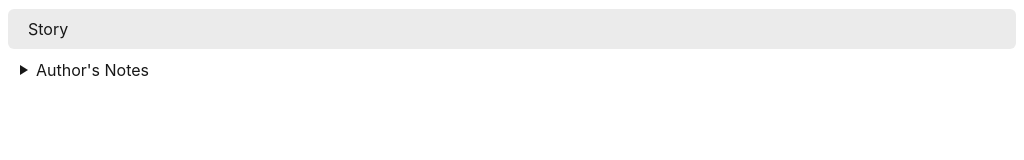
Test: opens notes from the group label and preserves expansion through progress updates
Later steps or results of the test are not shown.
Click the text "Author's Notes" at (93, 70), box [36,58,149,82]
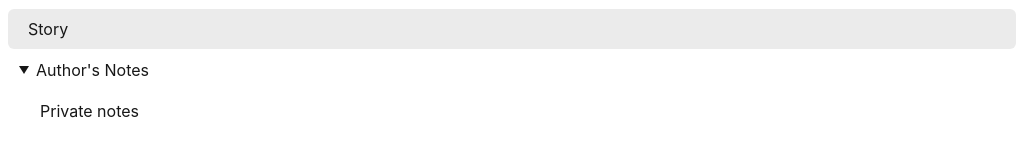
Check: the text "Private notes" is shown, box [40,99,139,123]
